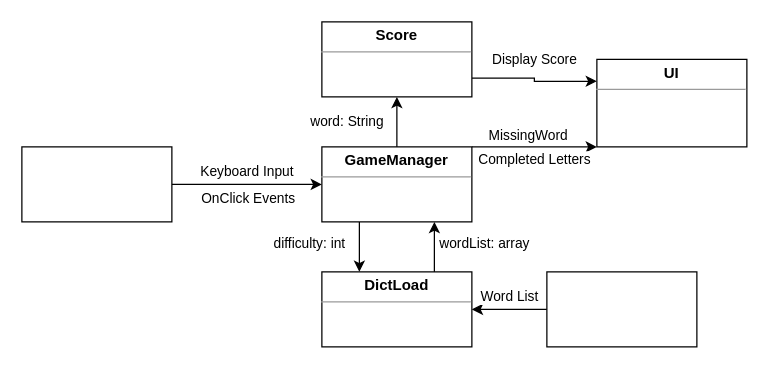
Image size: 769x369. Some labels were removed from this diagram. The box of each missing label's shape, as (x1, y1, x2, y2) in pixels:
Dictionary File: (546, 271, 697, 347)
Player: (21, 146, 172, 222)
